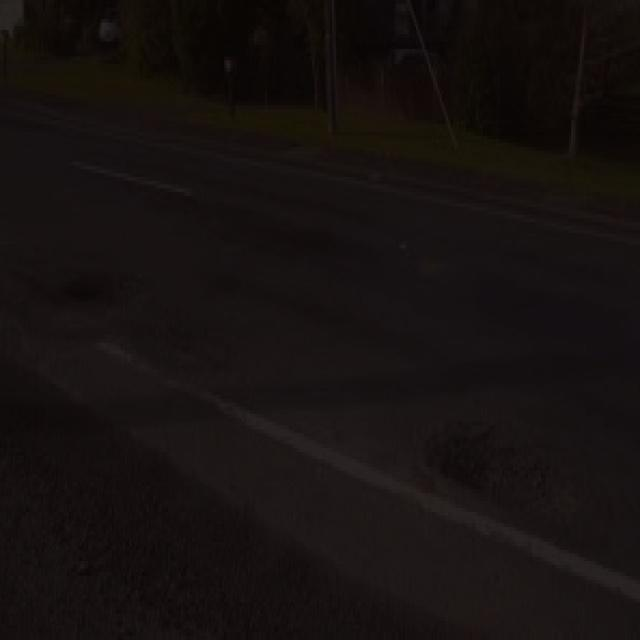Pothole: (414, 408, 592, 531), (39, 255, 129, 323)
